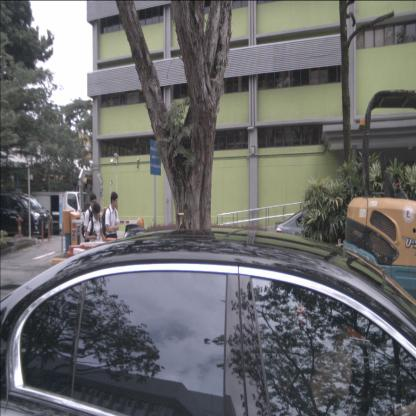cone: (47, 221, 51, 244), (40, 221, 44, 244)
